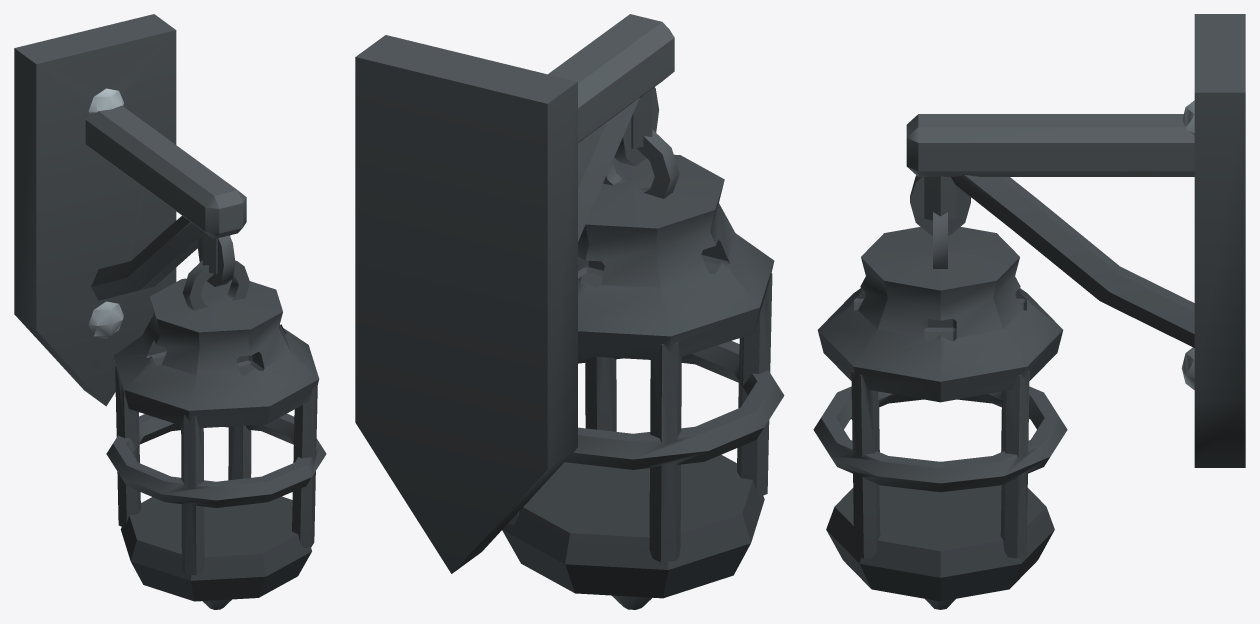
File: mine_lantern_wall.glb
3 views of the same model, side by side, from view 1: azimuth 30°, elevation 25°; view 2: azimuth 150°, elevation 25°; view 3: azimuth 270°, elevation 25° (orthographic). The views are drawn at different scales.
Visible parts, largest first — view 1: mine_lantern_wall; view 2: mine_lantern_wall; view 3: mine_lantern_wall.
Boxes of the visible parts, <box> form: mine_lantern_wall: <box>14,14,326,609</box>; mine_lantern_wall: <box>355,14,784,609</box>; mine_lantern_wall: <box>813,14,1245,609</box>.
Size of the model in its own units: 0.6 by 1.44 by 1.02.
Materials: 1 (1 with a texture image).
